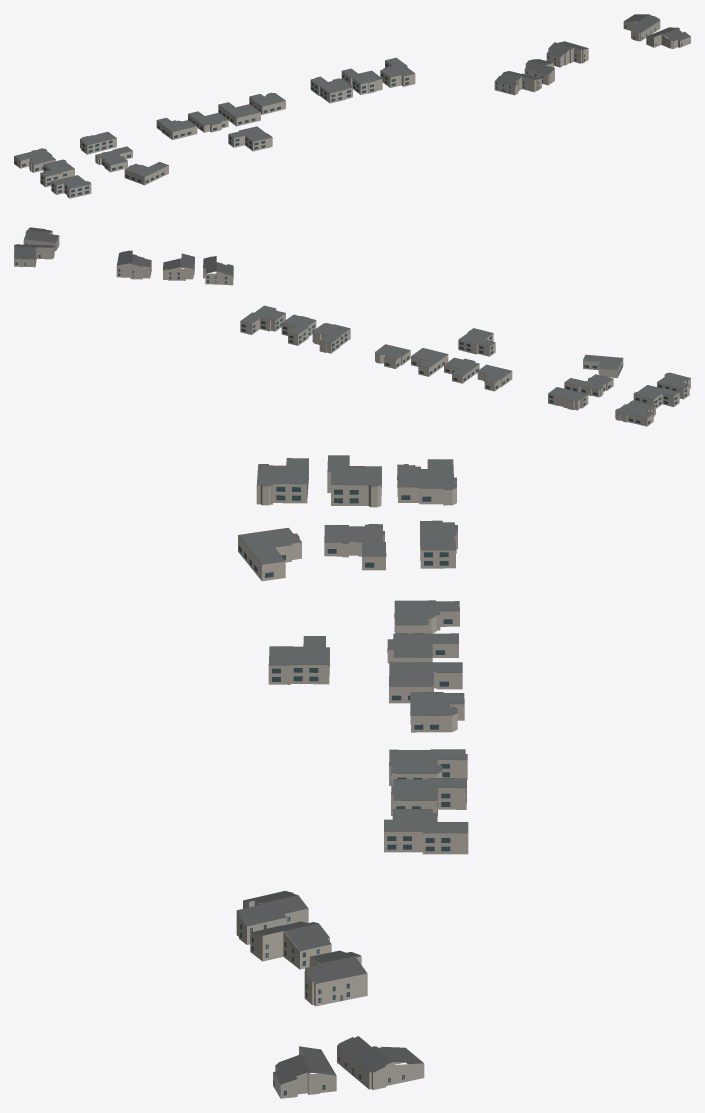
3 views of the same model, one above another, from view 1: azimuth 30°, elevation 25°; view 2: azimuth 150°, elevation 25°; view 3: azimuth 270°, elevation 25° (orthographic). The views are drawn at different scales.
Parts seen in each view (by area): view 1: Buildings (2, 10) Masonry brick, Buildings (2, 10) Roof membrane, Buildings (2, 10) Roof shingles, Buildings (2, 10) Architectural tinted glass, Buildings (2, 10) House siding, Buildings (2, 10) Metal coping; view 2: Buildings (2, 10) Masonry brick, Buildings (2, 10) Roof membrane, Buildings (2, 10) Roof shingles, Buildings (2, 10) Architectural tinted glass, Buildings (2, 10) House siding, Buildings (2, 10) Metal coping; view 3: Buildings (2, 10) Roof membrane, Buildings (2, 10) Masonry brick, Buildings (2, 10) Roof shingles, Buildings (2, 10) House siding, Buildings (2, 10) Architectural tinted glass, Buildings (2, 10) Metal coping.
Boxes of the visible parts, left/top/right/bottom form: Buildings (2, 10) Masonry brick: left=14, top=47, right=588, bottom=198; Buildings (2, 10) Roof membrane: left=14, top=58, right=414, bottom=188; Buildings (2, 10) Roof shingles: left=495, top=14, right=690, bottom=86; Buildings (2, 10) Architectural tinted glass: left=14, top=25, right=682, bottom=196; Buildings (2, 10) House siding: left=494, top=19, right=690, bottom=95; Buildings (2, 10) Metal coping: left=14, top=57, right=414, bottom=188; Buildings (2, 10) Masonry brick: left=116, top=252, right=690, bottom=426; Buildings (2, 10) Roof membrane: left=241, top=306, right=690, bottom=417; Buildings (2, 10) Roof shingles: left=14, top=227, right=233, bottom=275; Buildings (2, 10) Architectural tinted glass: left=15, top=243, right=686, bottom=424; Buildings (2, 10) House siding: left=14, top=229, right=233, bottom=285; Buildings (2, 10) Metal coping: left=240, top=305, right=690, bottom=418; Buildings (2, 10) Roof membrane: left=239, top=455, right=468, bottom=832; Buildings (2, 10) Masonry brick: left=238, top=460, right=468, bottom=1006; Buildings (2, 10) Roof shingles: left=237, top=891, right=423, bottom=1084; Buildings (2, 10) House siding: left=236, top=893, right=424, bottom=1098; Buildings (2, 10) Architectural tinted glass: left=239, top=469, right=466, bottom=1095; Buildings (2, 10) Metal coping: left=238, top=455, right=468, bottom=833.
Bounding box in the file's own units: 466 × 10.45 × 73.78.
